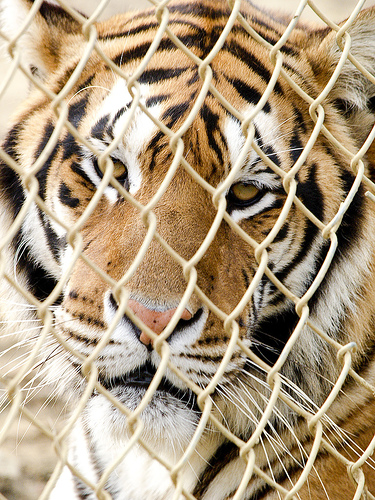Tigre: (8, 6, 365, 430)
